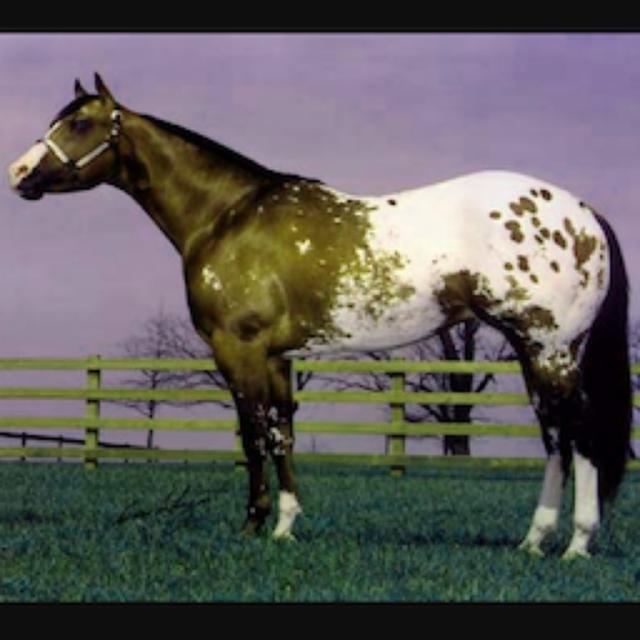Horse: (0, 65, 638, 565)
